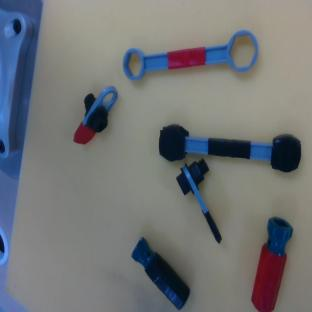part_1_bad: (173, 157, 234, 249)
part_1_good: (69, 78, 121, 150)
part_2_bad: (126, 237, 196, 311)
part_2_good: (248, 215, 295, 312)
part_3_bad: (157, 123, 302, 173)
part_3_good: (121, 29, 260, 81)
